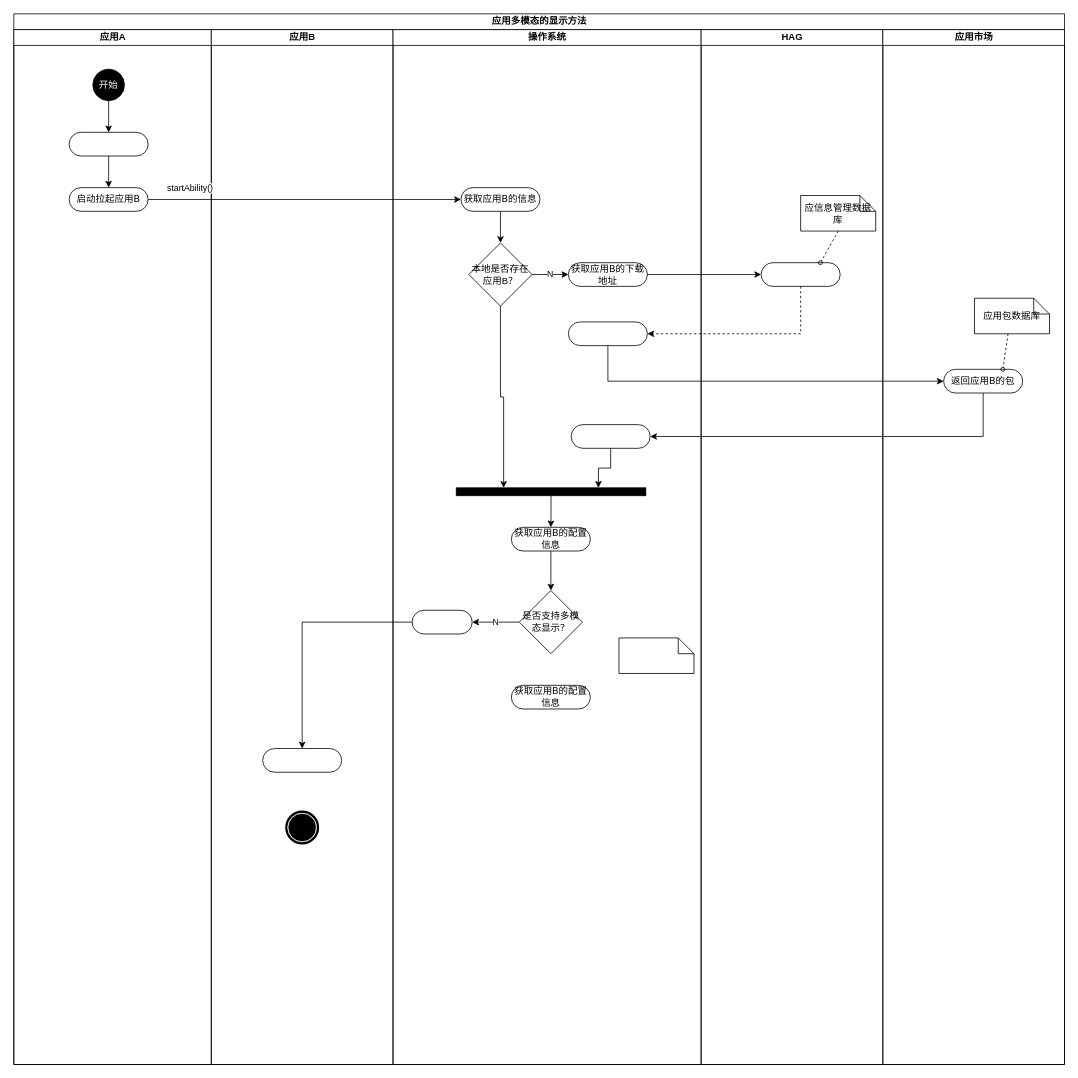
Image size: 1078x1078. Some labels were removed from this diagram. Each missing label, with the centre of its shape:
"其他Action" goes at (108,144).
"安装应用B" goes at (610,436).
"应用B启动并前台显示" goes at (302,760).
"拉起应用B" goes at (441,621).
"结束" goes at (302,827).
"请求下载应用B" goes at (607,333).
"返回应用B的下载地址" goes at (800,274).
"阈值数据" goes at (656,655).
